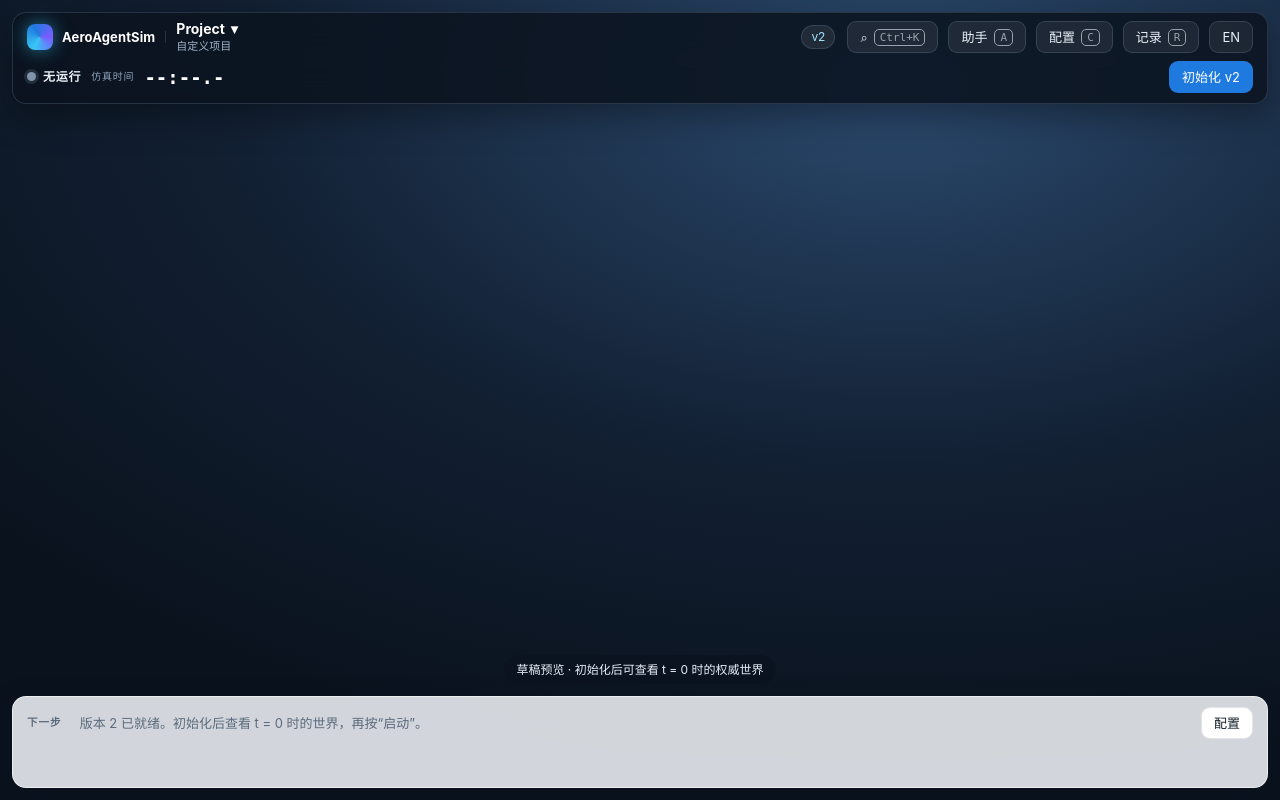
keeps a faulted initialization inspectable and never offers Start (zh-CN)
Click the button with test id "wb-init". click: coordinates (1211, 77)
box: [1169, 61, 1253, 93]
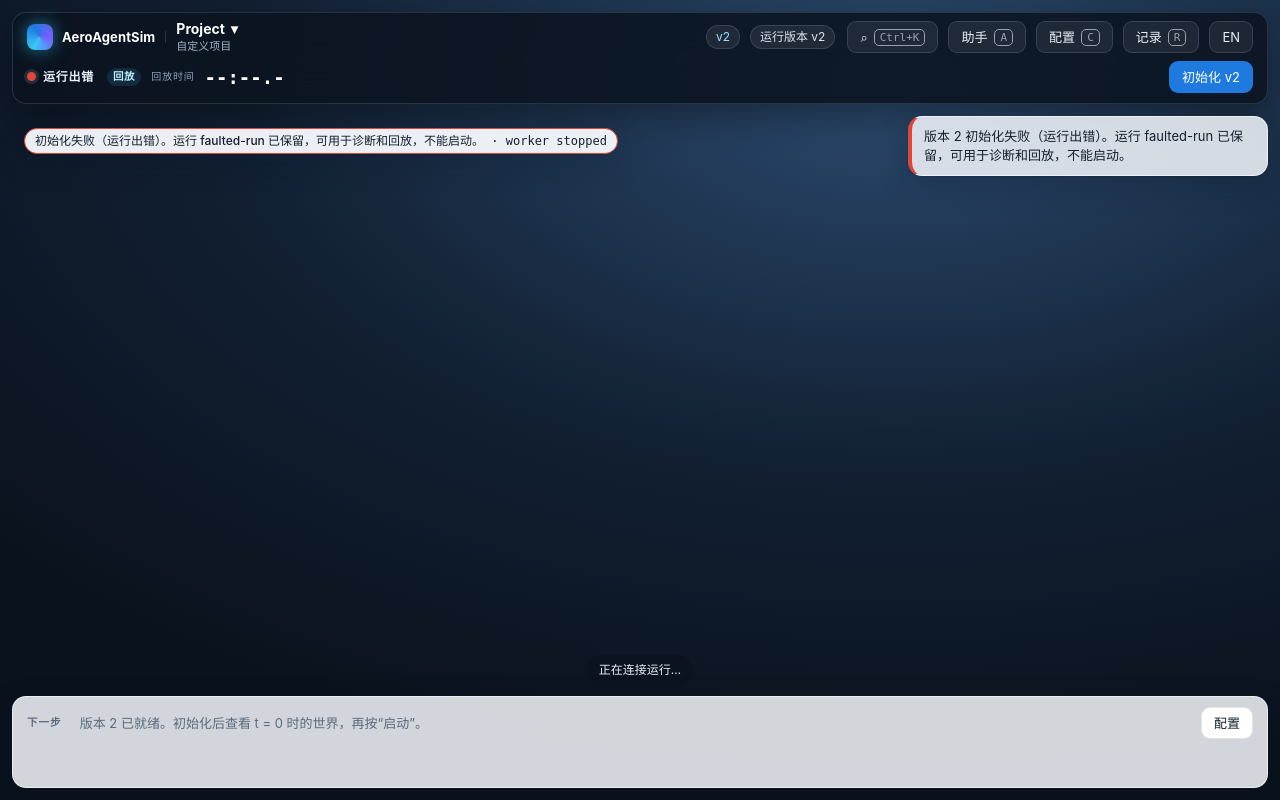
Expected: the message with test id "wb-init-failed" shows "初始化失败", [35, 133, 484, 148]
Expected: the message with test id "wb-init-failed" shows "faulted-run", [35, 133, 484, 148]
Expected: the message with test id "wb-init-failed" shows "worker stopped", [506, 134, 607, 148]
